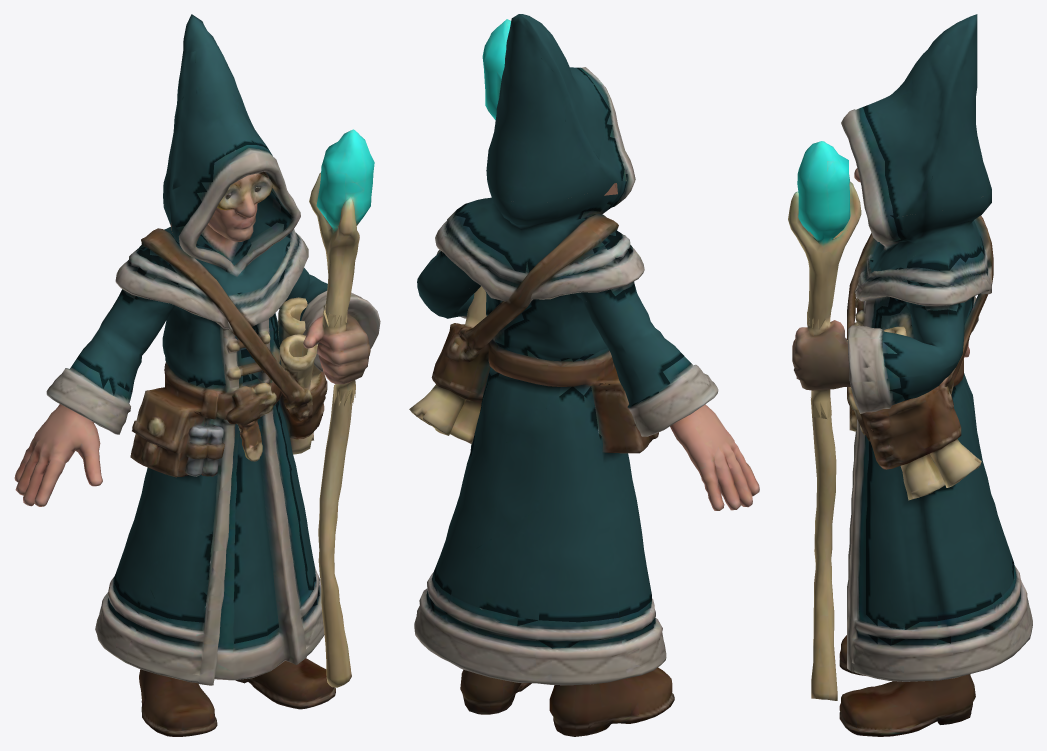
The model's file is hero_oren.glb.
The picture shows the model from 3 angles, left to right: view 1: azimuth 30°, elevation 25°; view 2: azimuth 150°, elevation 25°; view 3: azimuth 270°, elevation 25°; orthographic projection. The views are drawn at different scales.
Parts seen in each view (by area): view 1: Torso, ArmL, Head, Weapon, ArmR, Crystal, LegL, LegR; view 2: Torso, Head, ArmL, LegL, ArmR, LegR, Crystal; view 3: Torso, Head, ArmR, Weapon, LegR, Crystal.
Part boxes in pixels (bbox=[...]): Torso: bbox=[95, 198, 327, 685]; ArmL: bbox=[14, 236, 184, 506]; Head: bbox=[163, 14, 297, 234]; Weapon: bbox=[316, 197, 362, 687]; ArmR: bbox=[279, 229, 380, 403]; Crystal: bbox=[309, 129, 374, 227]; LegL: bbox=[139, 669, 217, 736]; LegR: bbox=[235, 658, 335, 709]; Torso: bbox=[409, 168, 666, 685]; Head: bbox=[486, 14, 632, 202]; ArmL: bbox=[575, 222, 759, 510]; LegL: bbox=[549, 667, 674, 736]; ArmR: bbox=[417, 198, 486, 318]; LegR: bbox=[460, 669, 531, 714]; Crystal: bbox=[482, 19, 510, 119]; Torso: bbox=[846, 187, 1032, 681]; Head: bbox=[841, 14, 991, 216]; ArmR: bbox=[792, 251, 982, 418]; Weapon: bbox=[788, 191, 849, 700]; LegR: bbox=[839, 674, 975, 736]; Crystal: bbox=[797, 141, 861, 246].
Bounding box in the file's own units: 1.09 × 2.15 × 0.703.
Materials: 2 (2 with a texture image).
